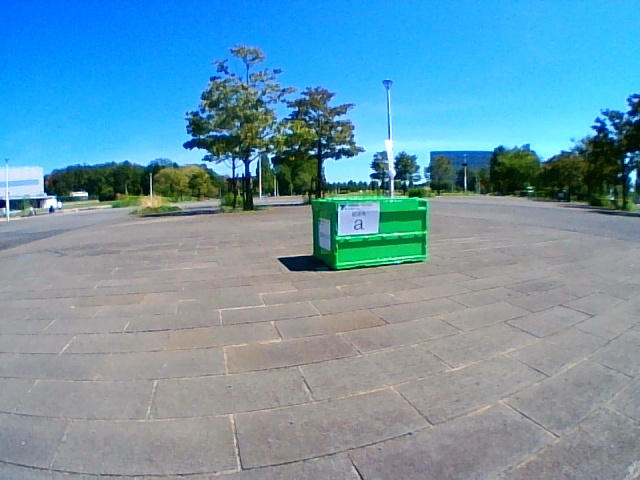green_box: (311, 196, 428, 268)
tag_a: (339, 205, 377, 232)
